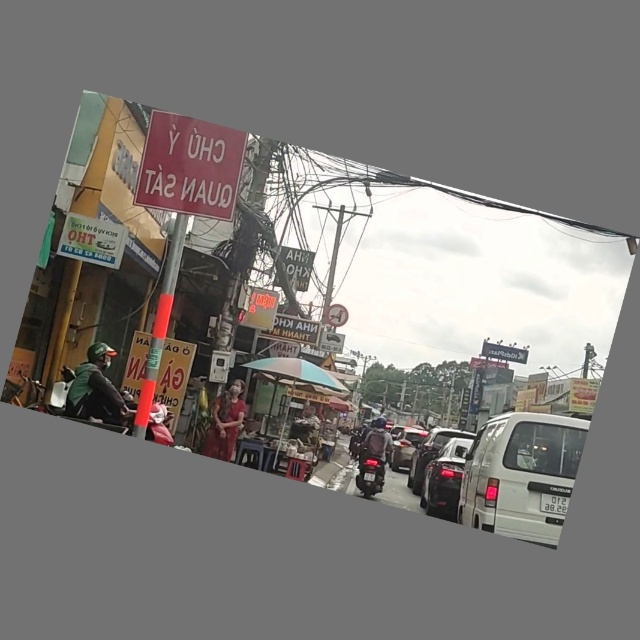P.139: (323, 301, 355, 332)
S.505a*Xe tai: (316, 329, 348, 355)
W.205b: (314, 353, 345, 375)
